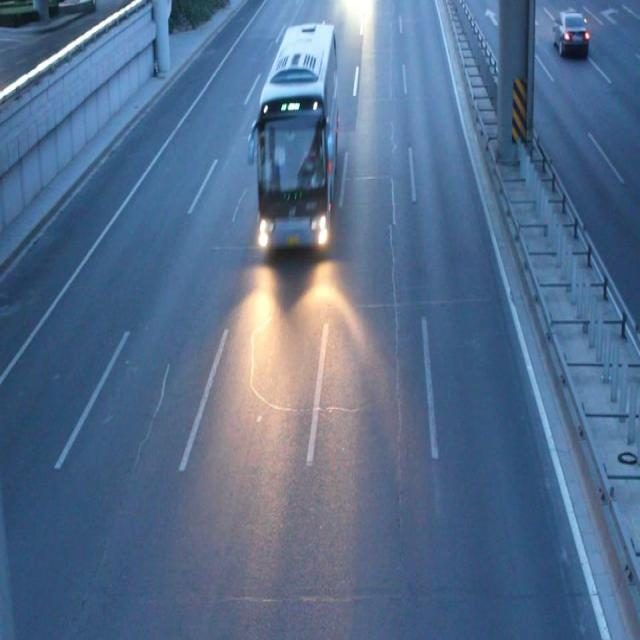van: (250, 26, 337, 250)
